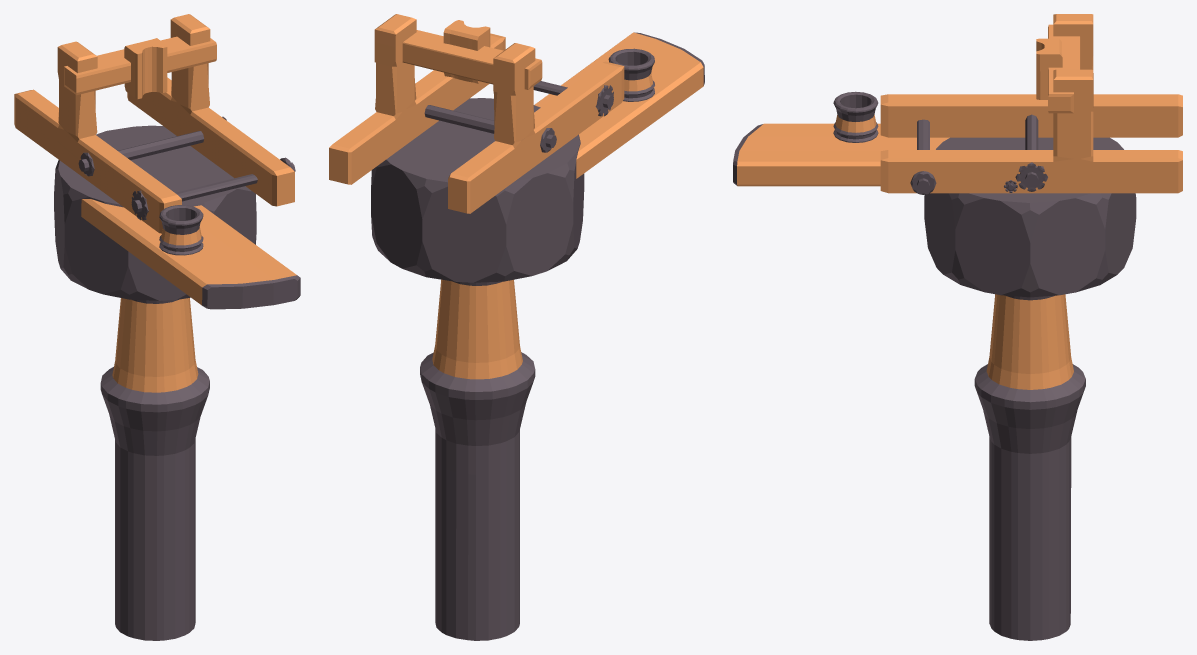
File: catapultBody.glb
The picture shows the model from 3 angles, left to right: view 1: azimuth 30°, elevation 25°; view 2: azimuth 150°, elevation 25°; view 3: azimuth 270°, elevation 25°; orthographic projection. The views are drawn at different scales.
Visible parts, largest first — view 1: Catapult; view 2: Catapult; view 3: Catapult.
Part boxes in pixels (x1,y1,x2,y2): Catapult: (14,14,300,640); Catapult: (329,14,704,640); Catapult: (733,14,1182,640).
Size of the model in its own units: 6.51 by 19.59 by 13.81.
Materials: 1 (1 with a texture image).
